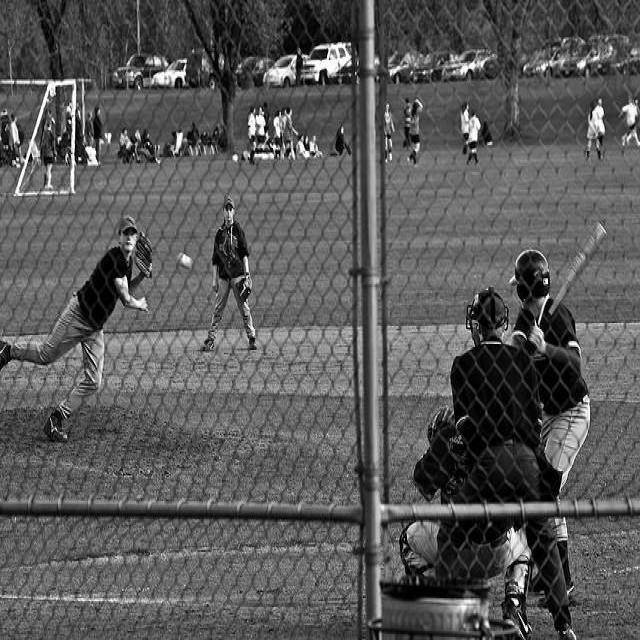vehicle: (559, 33, 627, 79), (435, 46, 499, 81), (300, 44, 352, 87), (112, 53, 171, 90), (263, 53, 310, 89), (532, 38, 572, 80), (409, 52, 459, 84), (186, 49, 226, 87), (335, 54, 381, 84), (150, 60, 191, 93), (600, 42, 640, 75), (236, 56, 276, 88), (387, 51, 423, 85)
